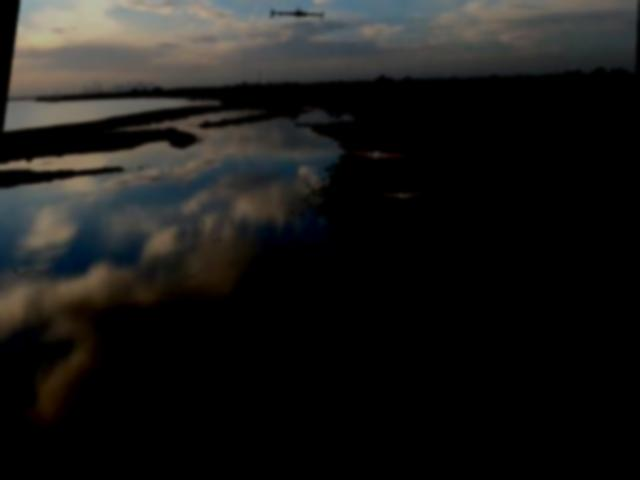uav: (343, 144, 411, 172), (266, 6, 329, 31), (383, 190, 424, 209)
